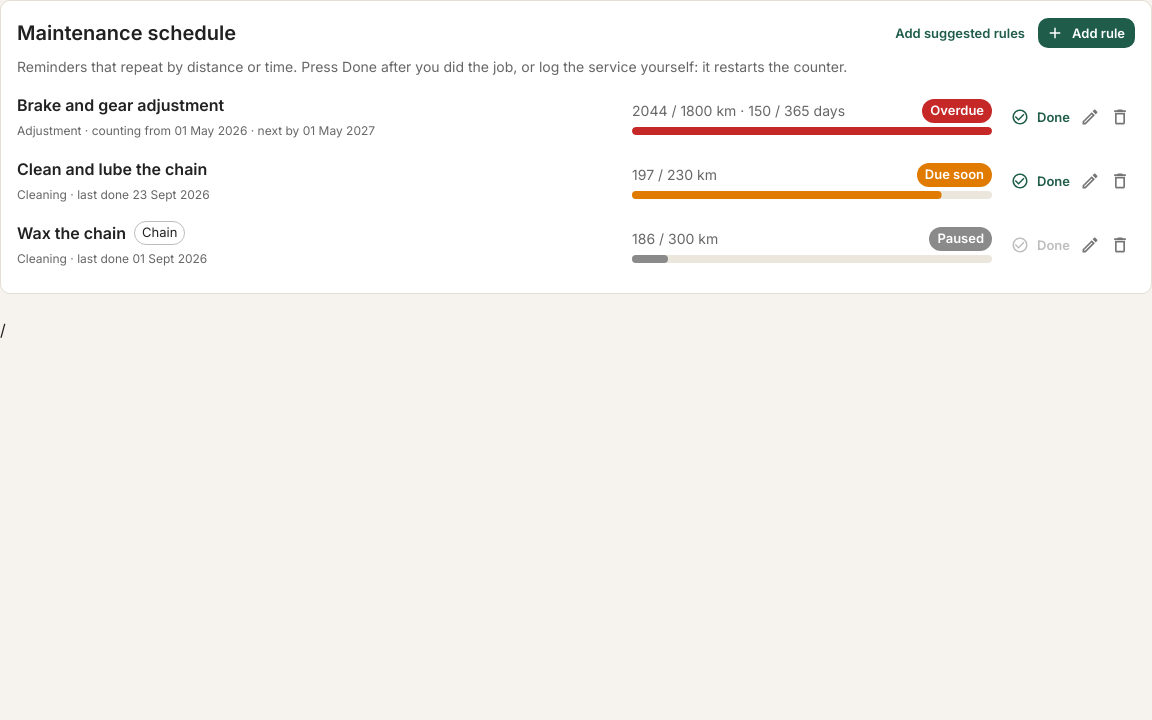
Test: MaintenanceSection › a failed delete shows the error
expect the text "Brake and gear adjustment" is shown: met, box [17, 93, 224, 117]
Click the button named "Delete Brake and gear adjustment".
click(1120, 117)  # box [1105, 102, 1135, 132]
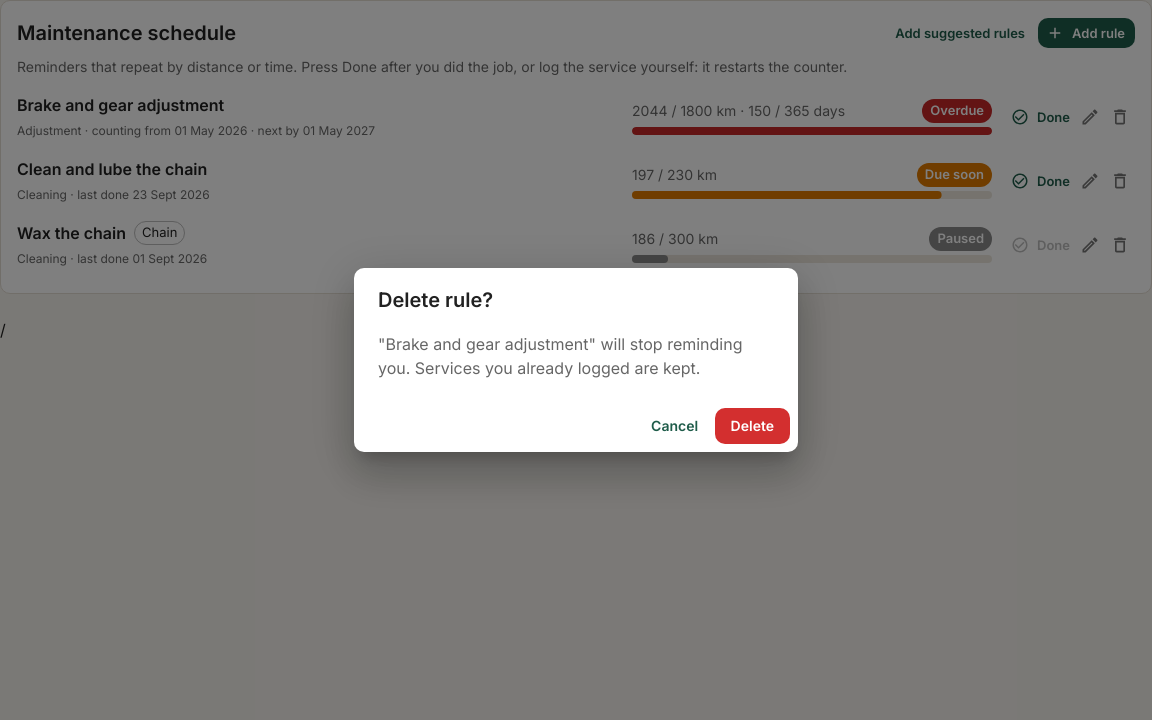
Click the button "Delete".
click(752, 426)  # box [715, 408, 790, 444]
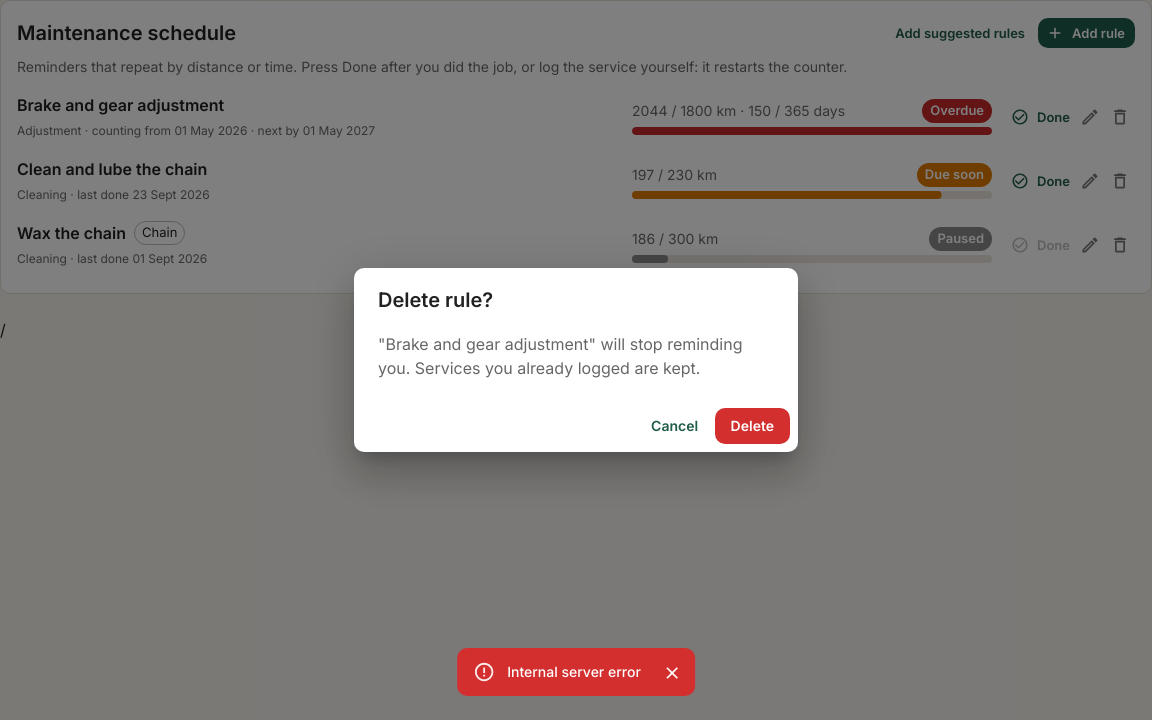
expect the text "Internal server error" is shown: met, box [507, 663, 641, 680]
